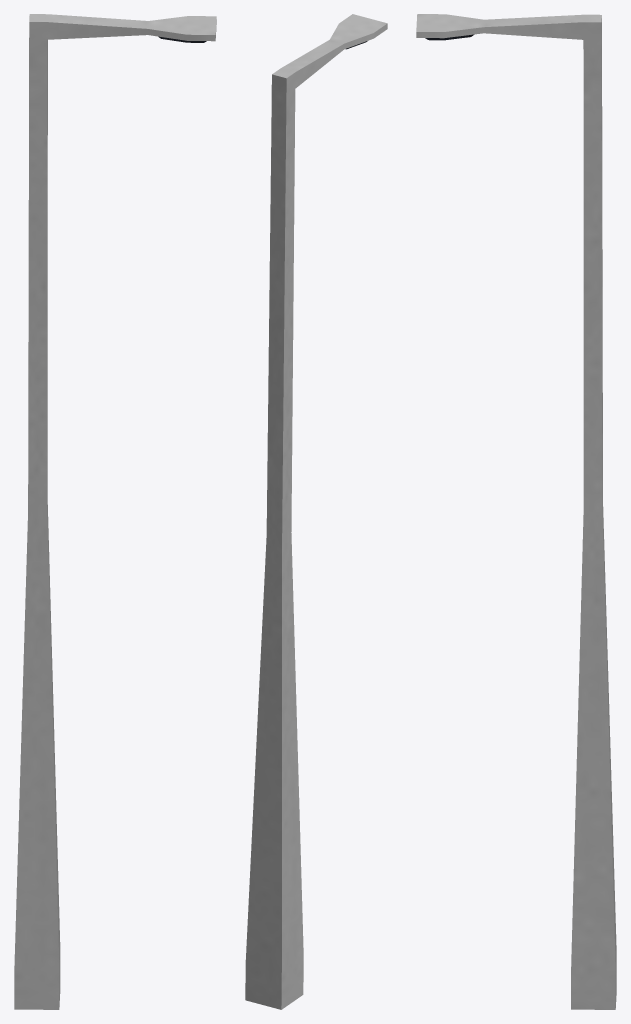
Rendered from StreetLight.fbx.
3 views of the same model, side by side, from view 1: azimuth 90°, elevation 25°; view 2: azimuth 150°, elevation 25°; view 3: azimuth 270°, elevation 25° (orthographic). The views are drawn at different scales.
Visible parts, largest first — view 1: StreetLight; view 2: StreetLight; view 3: StreetLight.
Boxes of the visible parts, left/top/right/bottom form: StreetLight: left=14, top=14, right=216, bottom=1009; StreetLight: left=245, top=14, right=387, bottom=1009; StreetLight: left=416, top=14, right=616, bottom=1009.
Bounding box in the file's own units: 119 × 2187 × 406.
